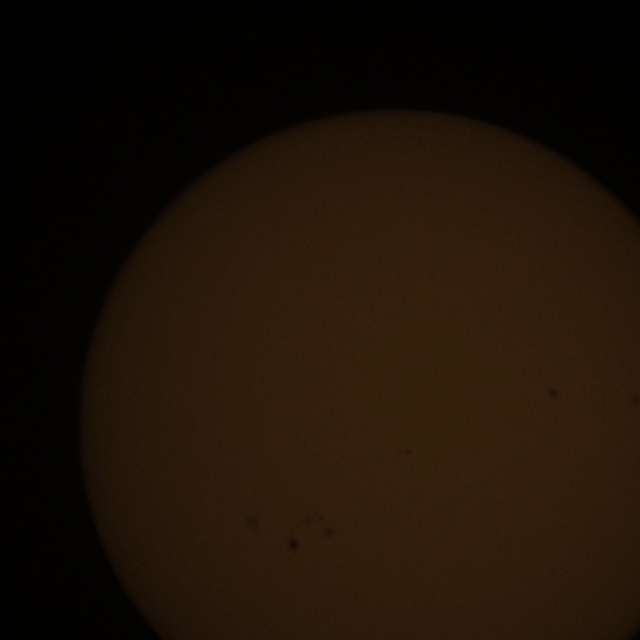sunspot: (298, 502, 332, 526), (233, 505, 257, 534), (281, 534, 307, 554), (400, 440, 421, 460), (320, 528, 343, 546), (542, 382, 562, 400)
